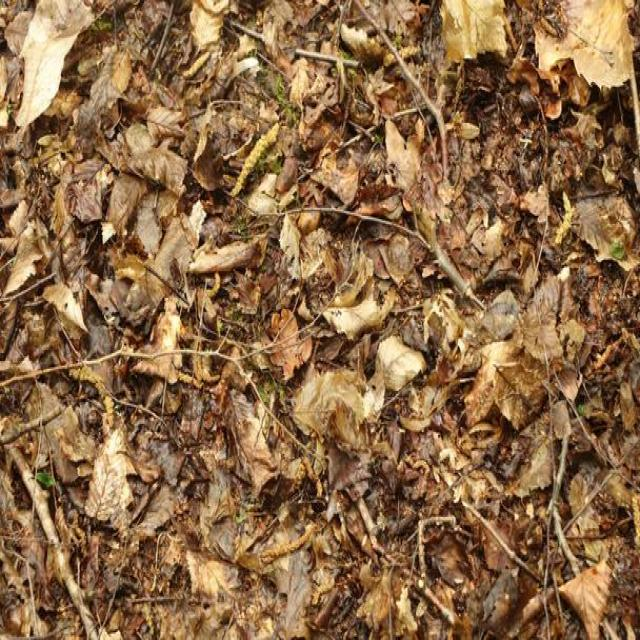organic waste: (4, 1, 640, 631)
